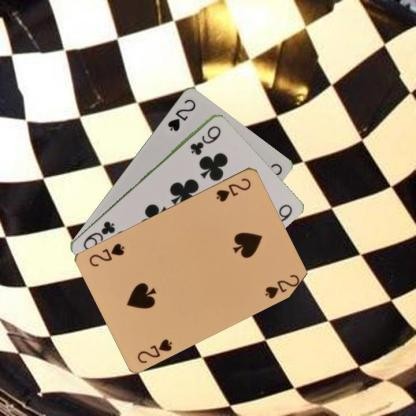2s: (213, 174, 253, 203), (165, 96, 197, 132), (135, 336, 174, 364)
9c: (188, 122, 223, 156)
